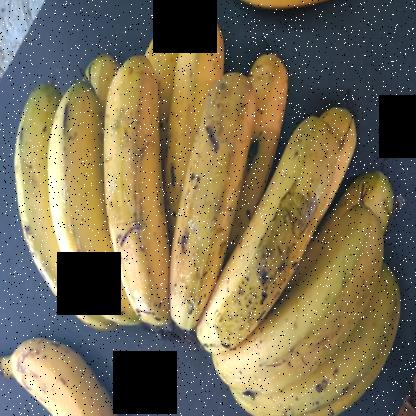ripe: (202, 112, 338, 342), (210, 216, 392, 381), (95, 51, 197, 337), (168, 67, 254, 352), (47, 66, 131, 315), (6, 62, 86, 318), (14, 345, 124, 415)
